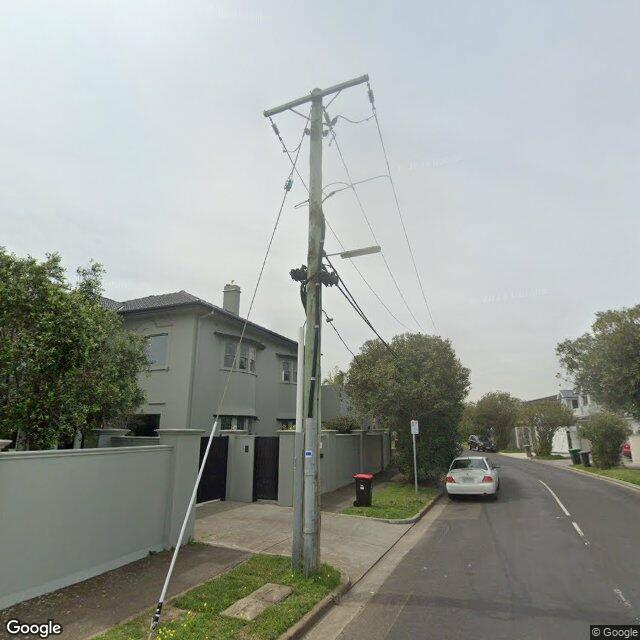HV-transmission: (272, 89, 374, 141)
crossarm: (264, 74, 368, 118)
streetlight: (321, 246, 381, 259)
timber-pole: (301, 88, 323, 578)
